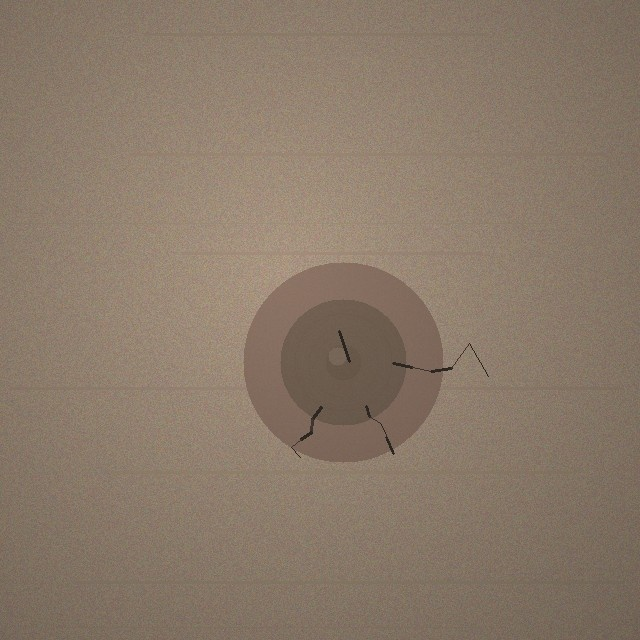crack: (243, 262, 443, 462)
